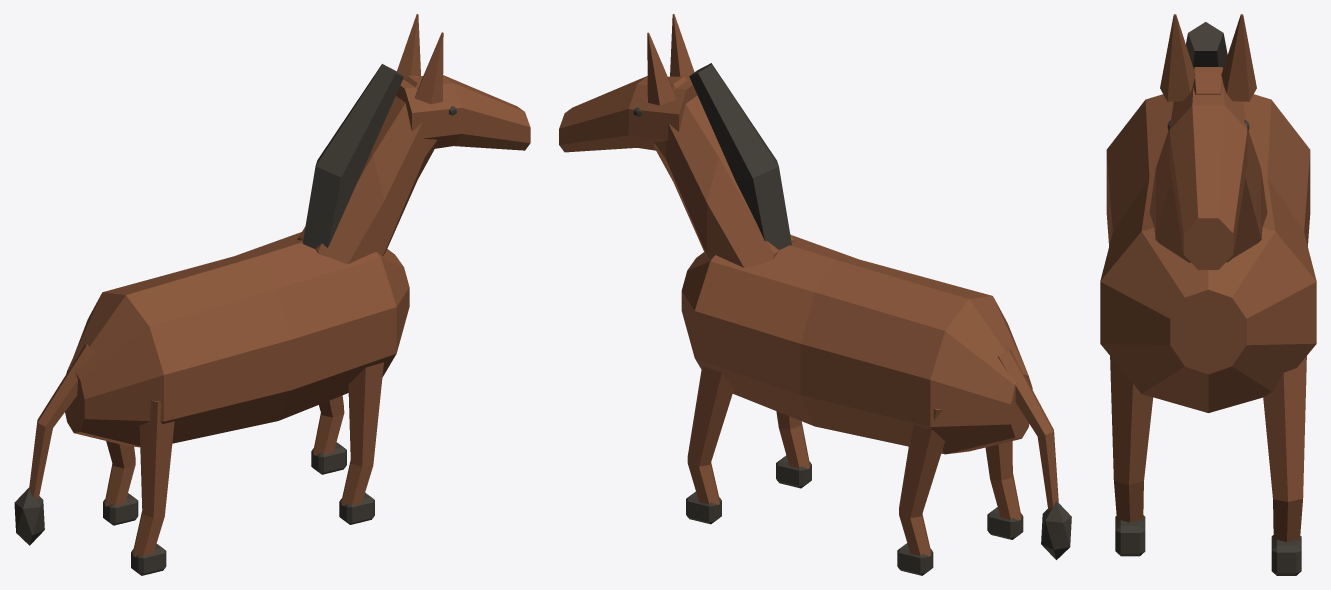
Rendered from horse.glb.
3 renders of one model, left to right at view 1: azimuth 30°, elevation 25°; view 2: azimuth 150°, elevation 25°; view 3: azimuth 270°, elevation 25°, orthographic. The views are drawn at different scales.
Parts seen in each view (by area): view 1: Sculpted silhouette, Sculpted silhouette.001, Tapered form.006, Sculpted silhouette.002, Tapered form, Tapered form.002, Tapered form.007, Tapered form.001, Icosphere, Tapered form.003, Tapered form.004, Tapered form.005 (+4 smaller); view 2: Sculpted silhouette, Sculpted silhouette.001, Tapered form.006, Sculpted silhouette.002, Tapered form.003, Tapered form.001, Tapered form.007, Tapered form, Icosphere, Tapered form.002, Tapered form.005, Tapered form.004 (+4 smaller); view 3: Sculpted silhouette, Sculpted silhouette.002, Tapered form.003, Sculpted silhouette.001, Tapered form.002, Tapered form.005, Tapered form.004, Tapered form.006, Cube.002, Cube.003.
Part boxes in pixels (box(x1,y1,x2,y2)): Sculpted silhouette: box(65, 232, 409, 447); Sculpted silhouette.001: box(297, 75, 437, 264); Tapered form.006: box(302, 64, 403, 248); Sculpted silhouette.002: box(396, 75, 530, 150); Tapered form: box(133, 400, 174, 556); Tapered form.002: box(341, 362, 383, 506); Tapered form.007: box(29, 343, 96, 499); Tapered form.001: box(104, 441, 135, 506); Icosphere: box(14, 487, 44, 545); Tapered form.003: box(313, 395, 344, 455); Tapered form.004: box(414, 32, 443, 104); Tapered form.005: box(397, 14, 420, 79); Sculpted silhouette: box(681, 235, 1032, 454); Sculpted silhouette.001: box(654, 76, 794, 267); Tapered form.006: box(689, 63, 791, 249); Sculpted silhouette.002: box(559, 76, 697, 152); Tapered form.003: box(687, 366, 733, 504); Tapered form.001: box(899, 408, 945, 556); Tapered form.007: box(997, 349, 1058, 510); Tapered form: box(985, 441, 1021, 520); Icosphere: box(1041, 501, 1071, 559); Tapered form.002: box(776, 411, 809, 469); Tapered form.005: box(647, 32, 676, 105); Tapered form.004: box(670, 14, 694, 80); Sculpted silhouette: box(1100, 94, 1316, 412); Sculpted silhouette.002: box(1169, 67, 1247, 269); Tapered form.003: box(1263, 356, 1306, 541); Sculpted silhouette.001: box(1149, 72, 1267, 262); Tapered form.002: box(1110, 356, 1153, 522); Tapered form.005: box(1221, 14, 1256, 101); Tapered form.004: box(1160, 14, 1195, 101); Tapered form.006: box(1186, 22, 1227, 68); Cube.002: box(1115, 515, 1145, 556); Cube.003: box(1271, 535, 1301, 575).
Bounding box in the file's own units: 1.15 × 0.9904 × 0.3234.
